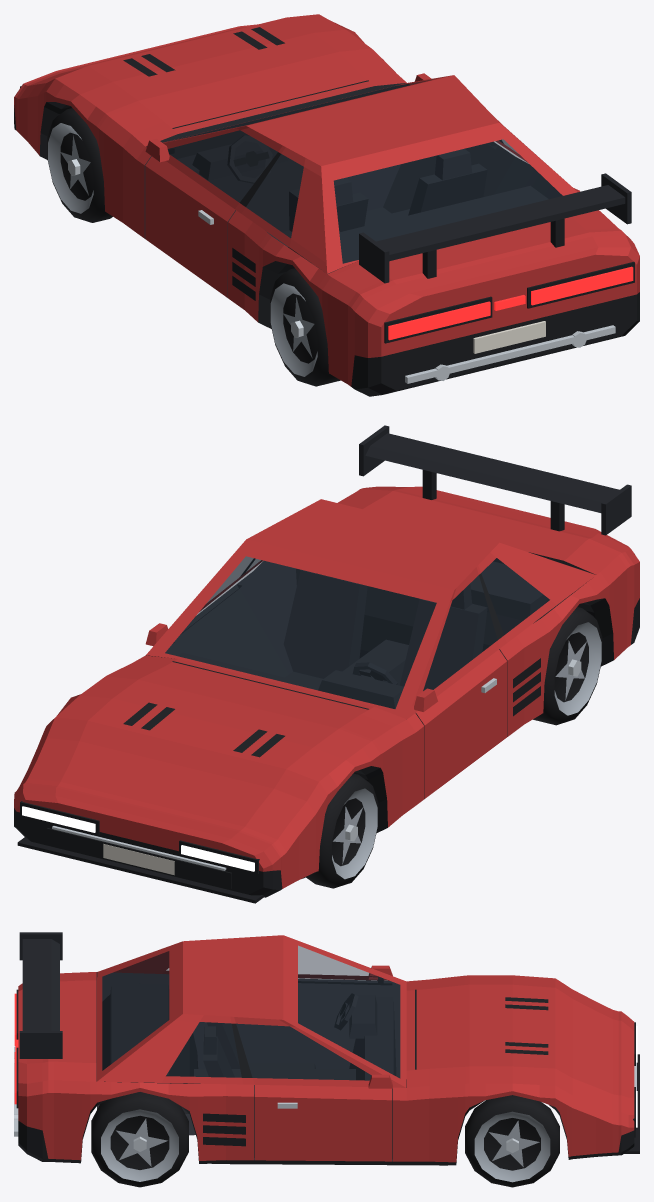
Rendered from sports.glb.
3 renders of one model, top to bottom at view 1: azimuth 30°, elevation 25°; view 2: azimuth 150°, elevation 25°; view 3: azimuth 270°, elevation 25°, orthographic. The views are drawn at different scales.
Visible parts, largest first — view 1: Body, DoorL, Wheel_RL, Wheel_FL; view 2: Body, DoorL, Wheel_FL, Wheel_RL, DoorR; view 3: Body, DoorR, Wheel_RR, Wheel_FR, DoorL.
Boxes of the visible parts, x1,y1,x2,y2 form: Body: [14, 14, 639, 396]; DoorL: [145, 127, 282, 297]; Wheel_RL: [270, 268, 340, 386]; Wheel_FL: [47, 108, 112, 222]; Body: [14, 425, 639, 903]; DoorL: [414, 567, 507, 798]; Wheel_FL: [306, 773, 378, 888]; Wheel_RL: [533, 607, 602, 725]; DoorR: [145, 556, 253, 646]; Body: [14, 932, 639, 1165]; DoorR: [234, 1017, 392, 1161]; Wheel_RR: [91, 1092, 188, 1187]; Wheel_FR: [465, 1095, 559, 1187]; DoorL: [298, 965, 392, 985].
Size of the model in its own units: 1.93 by 1.2 by 4.37.
